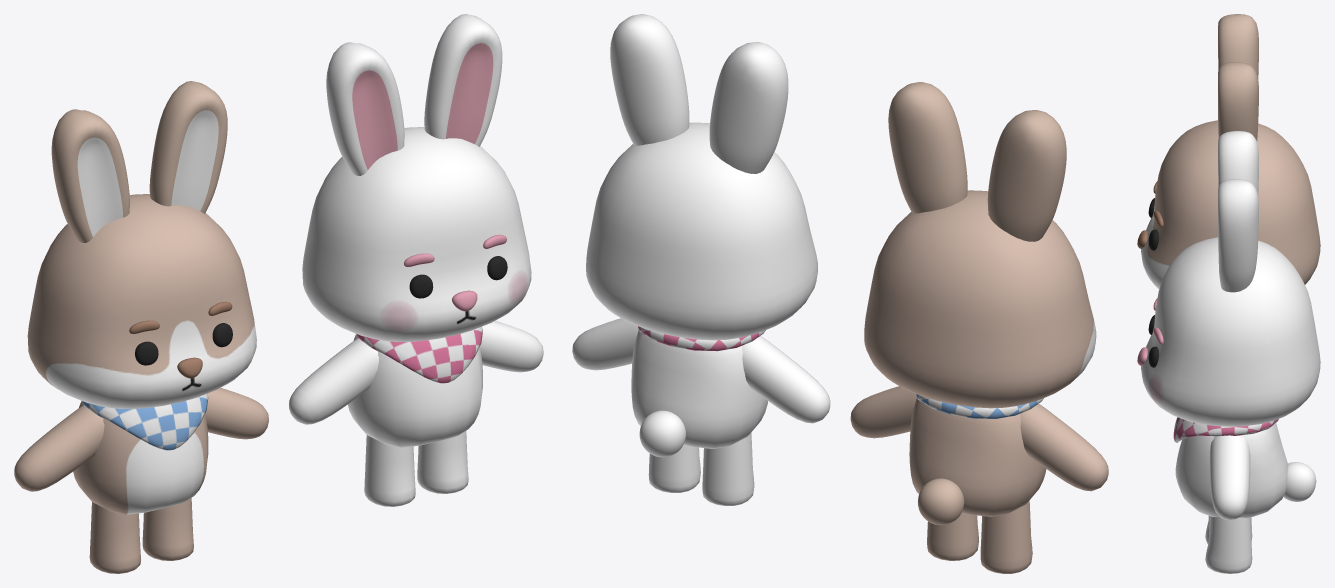
3 renders of one model, left to right at view 1: azimuth 30°, elevation 25°; view 2: azimuth 150°, elevation 25°; view 3: azimuth 270°, elevation 25°, orthographic. The views are drawn at different scales.
Parts seen in each view (by area): view 1: bunny2_head, bunny1_head, bunny2_ears, bunny1_ears, bunny1_body, bunny2_body, bunny1_arms, bunny2_arms, bunny1_legs, bunny2_legs, bunny1_scraf, bunny2_scraf (+2 smaller); view 2: bunny1_head, bunny2_head, bunny1_ears, bunny2_ears, bunny1_body, bunny2_body, bunny2_arms, bunny1_arms, bunny1_legs, bunny2_legs, bunny2_tail, bunny1_tail (+2 smaller); view 3: bunny2_head, bunny1_head, bunny2_ears, bunny2_body, bunny1_ears, bunny2_arms, bunny2_legs, bunny2_scraf, bunny2_tail, bunny1_eyes, bunny2_eyes.
Boxes of the visible parts, left/top/right/bottom form: bunny2_head: left=302, top=127, right=531, bottom=341; bunny1_head: left=27, top=194, right=256, bottom=409; bunny2_ears: left=326, top=14, right=502, bottom=175; bunny1_ears: left=51, top=81, right=227, bottom=242; bunny1_body: left=73, top=401, right=208, bottom=514; bunny2_body: left=348, top=334, right=482, bottom=447; bunny1_arms: left=14, top=388, right=268, bottom=491; bunny2_arms: left=289, top=321, right=543, bottom=424; bunny1_legs: left=89, top=498, right=193, bottom=573; bunny2_legs: left=364, top=431, right=468, bottom=506; bunny1_scraf: left=81, top=394, right=208, bottom=450; bunny2_scraf: left=356, top=326, right=482, bottom=383; bunny1_head: left=864, top=190, right=1096, bottom=408; bunny2_head: left=586, top=122, right=817, bottom=340; bunny1_ears: left=888, top=82, right=1066, bottom=241; bunny2_ears: left=610, top=14, right=788, bottom=173; bunny1_body: left=909, top=398, right=1046, bottom=516; bunny2_body: left=631, top=330, right=767, bottom=448; bunny2_arms: left=572, top=318, right=830, bottom=423; bunny1_arms: left=850, top=386, right=1108, bottom=491; bunny1_legs: left=927, top=500, right=1032, bottom=573; bunny2_legs: left=648, top=433, right=754, bottom=505; bunny2_tail: left=639, top=410, right=685, bottom=457; bunny1_tail: left=918, top=478, right=964, bottom=525; bunny2_head: left=1141, top=237, right=1320, bottom=426; bunny1_head: left=1141, top=120, right=1320, bottom=289; bunny2_ears: left=1218, top=131, right=1258, bottom=292; bunny2_body: left=1175, top=423, right=1288, bottom=518; bunny1_ears: left=1218, top=14, right=1258, bottom=140; bunny2_arms: left=1209, top=435, right=1250, bottom=520; bunny2_legs: left=1205, top=516, right=1252, bottom=573; bunny2_scraf: left=1173, top=417, right=1278, bottom=442; bunny2_tail: left=1283, top=462, right=1316, bottom=501; bunny1_eyes: left=1148, top=198, right=1159, bottom=250; bunny2_eyes: left=1148, top=315, right=1159, bottom=367.
Size of the model in its own units: 0.9551 by 0.7965 by 0.3309.
Materials: 11 (4 with a texture image).
